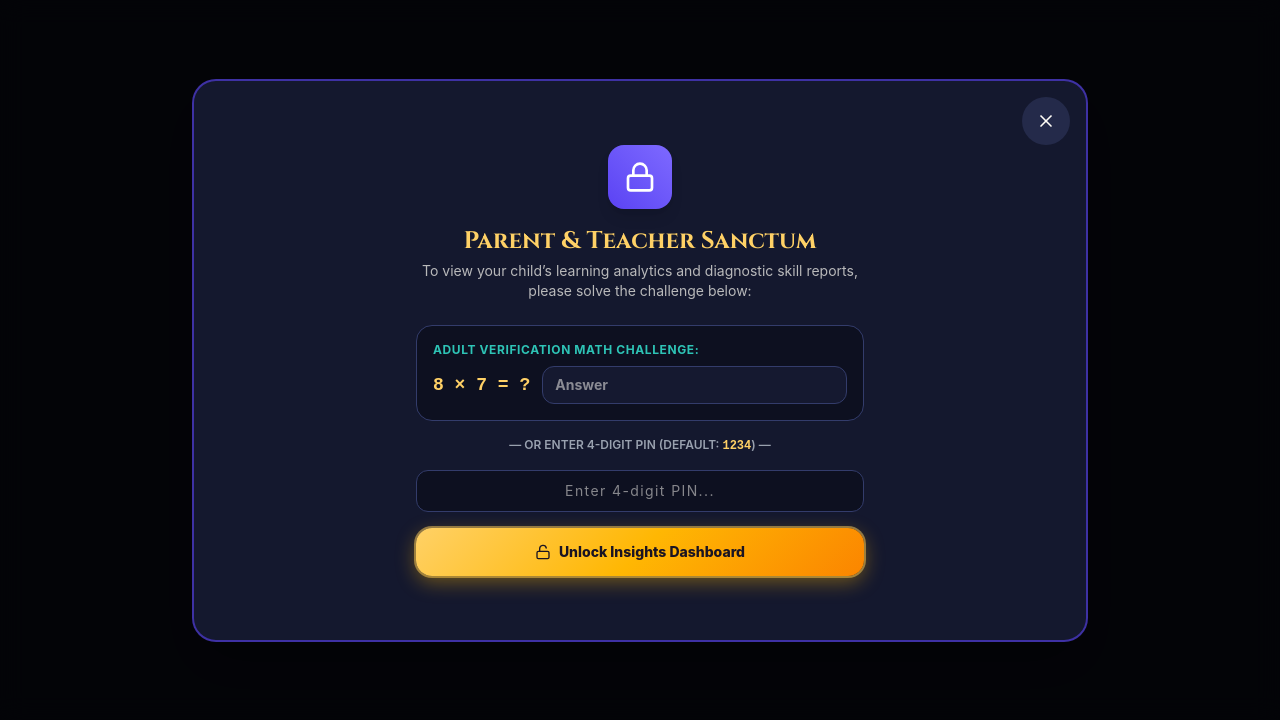
Test: Topic & Age Input Validation › ParentDashboard - Gate Authentication Validation › rejects incorrect PIN and math solutions with helpful error
The image size is (1280, 720).
Type "9999" into the password field with placeholder "Enter 4-digit PIN..." at x=640, y=490, box x1=416 y1=470 x2=864 y2=512
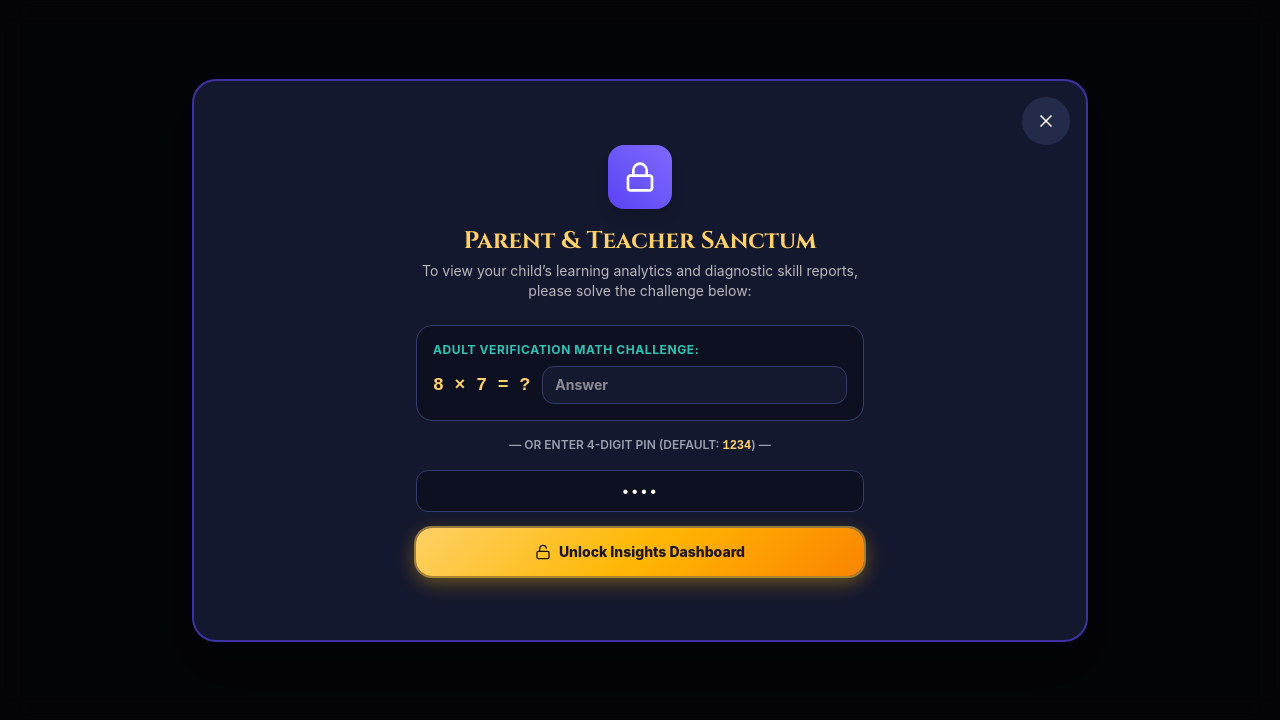
Click the button "Unlock Insights Dashboard" at x=640, y=552, box x1=416 y1=528 x2=864 y2=576
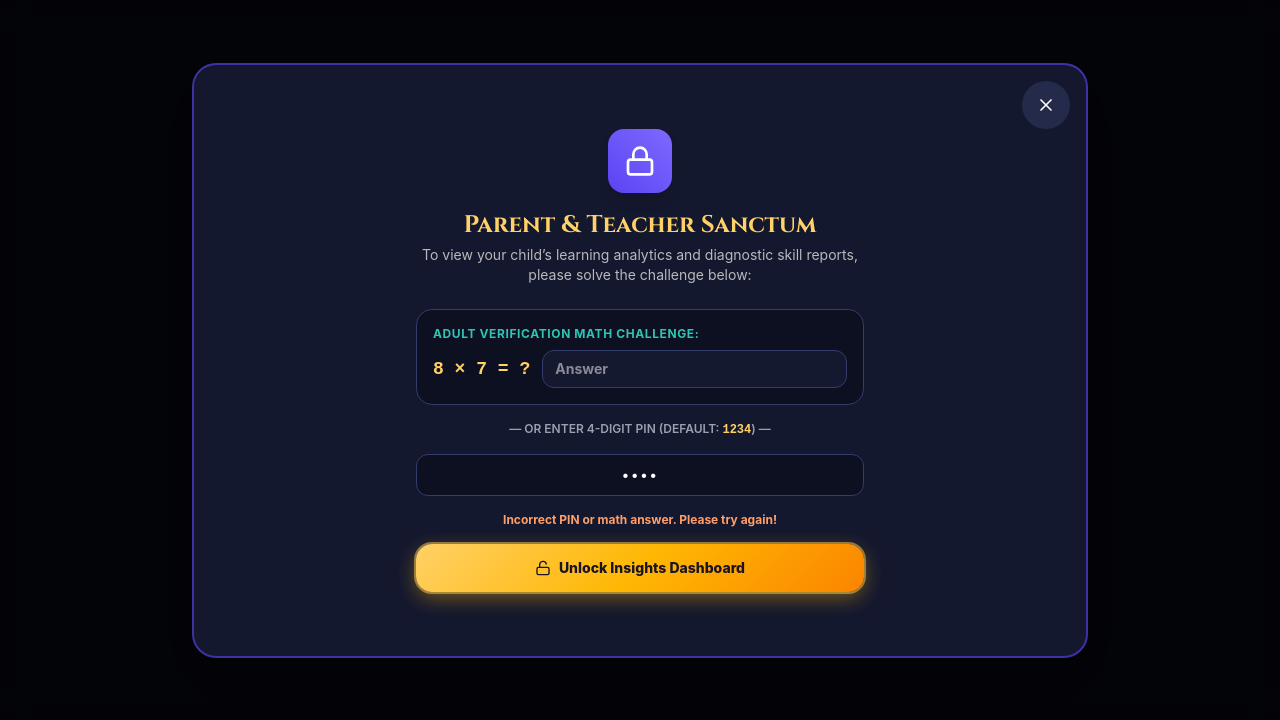
Now the text "Incorrect PIN or math answer. Please try again!" is shown, box x1=503 y1=512 x2=777 y2=526
